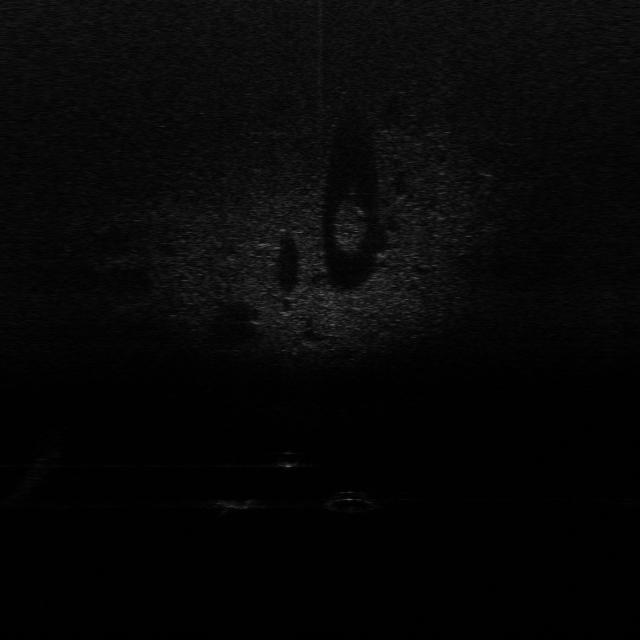ball: (272, 449, 303, 472)
square cage: (210, 493, 270, 516)
tyre: (323, 488, 383, 523)
